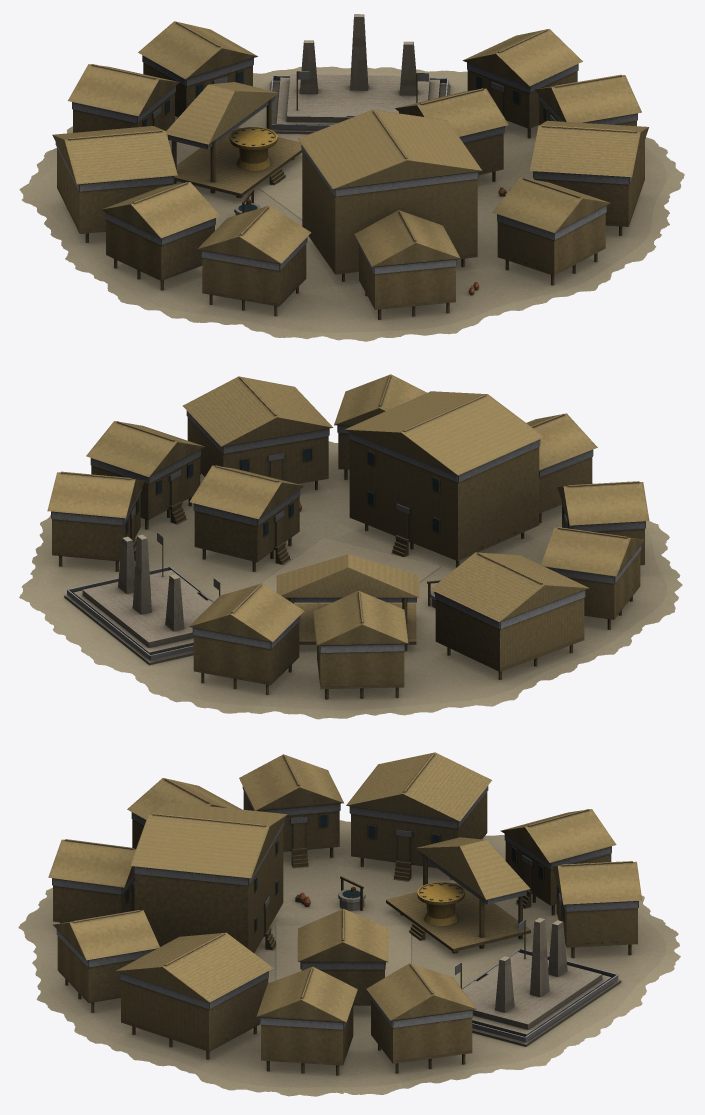
Rendered from bronze-town-medium-a-monsoon.glb.
3 renders of one model, top to bottom at view 1: azimuth 30°, elevation 25°; view 2: azimuth 150°, elevation 25°; view 3: azimuth 270°, elevation 25°, orthographic.
Parts seen in each view (by area): view 1: LOD0; view 2: LOD0; view 3: LOD0.
Part boxes in pixels (x1,y1,x2,y2): LOD0: [19, 14, 684, 341]; LOD0: [19, 374, 682, 719]; LOD0: [18, 752, 680, 1096].
Size of what is drawn, in the model's own units: 5.91 by 1.22 by 6.03.
3 materials, 3 textured.
